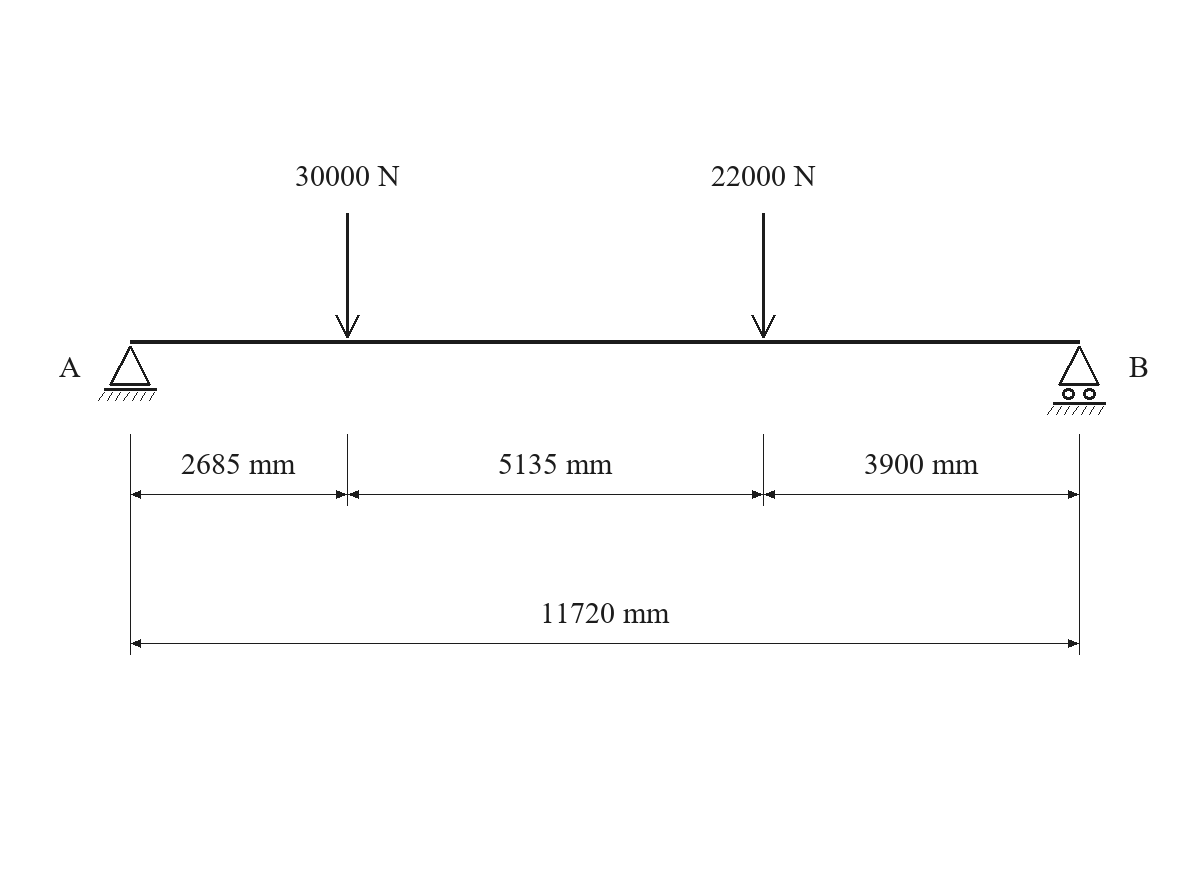pin_support: (98, 346, 157, 401)
point_load: (335, 213, 360, 338), (751, 213, 776, 338)
roller_support: (1047, 346, 1106, 415)
